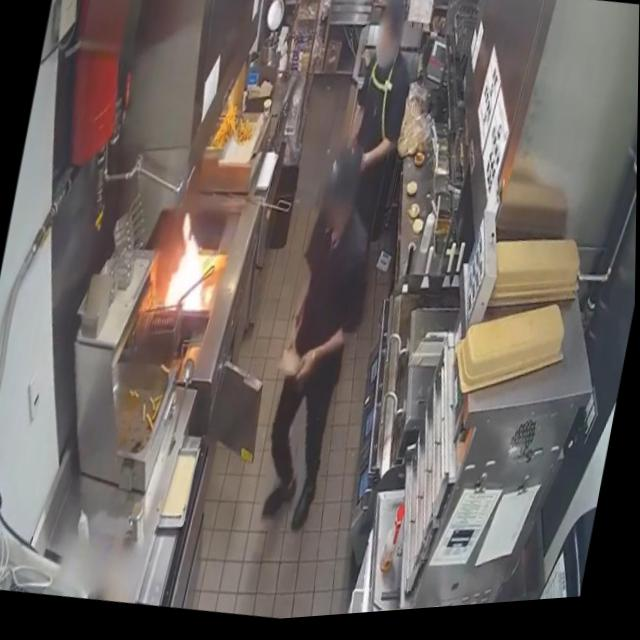fire: (156, 206, 225, 323)
